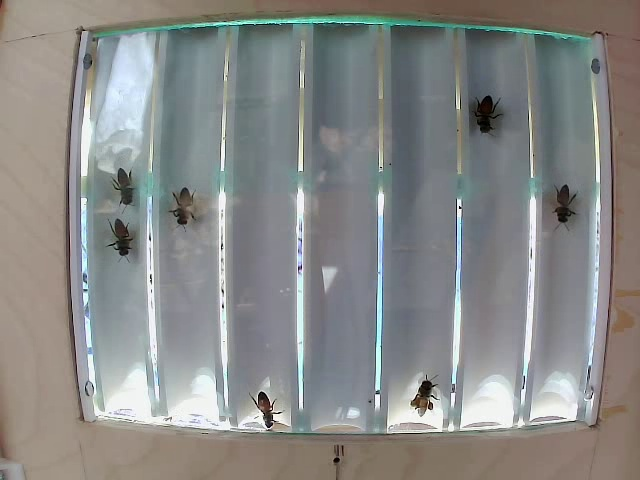bee: (102, 211, 142, 267), (473, 77, 511, 132), (241, 373, 281, 424), (549, 170, 585, 220), (165, 185, 206, 222), (402, 383, 440, 421), (107, 166, 141, 198)
